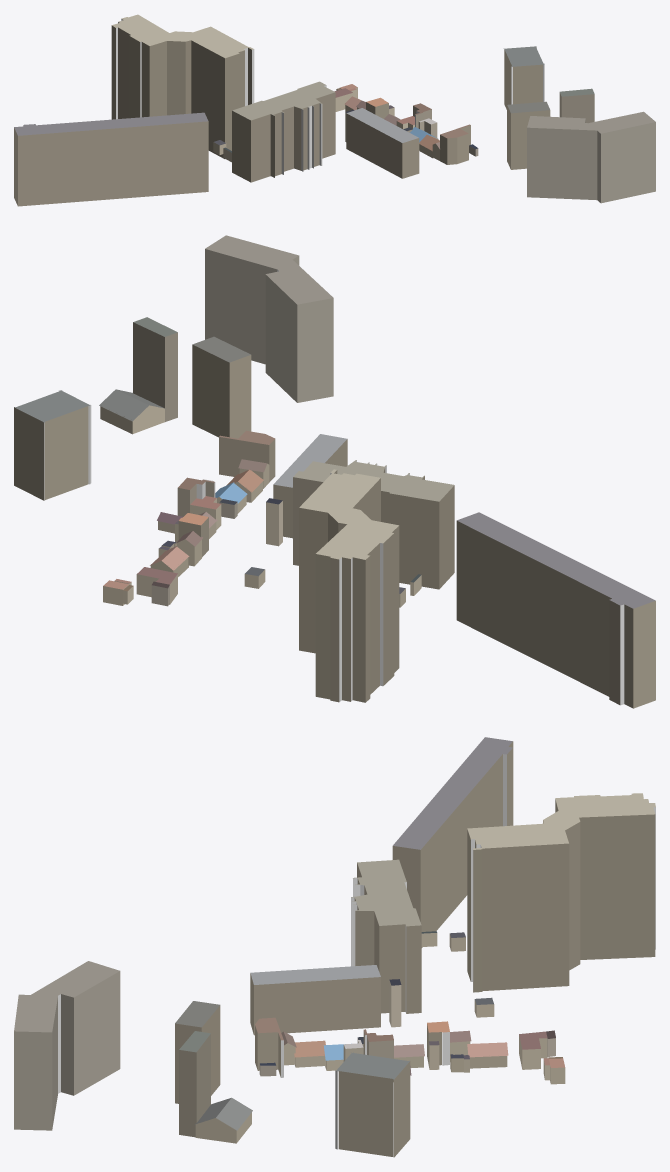
3 renders of one model, top to bottom at view 1: azimuth 30°, elevation 25°; view 2: azimuth 150°, elevation 25°; view 3: azimuth 270°, elevation 25°, orthographic. The views are drawn at different scales.
Parts seen in each view (by area): view 1: tuile; view 2: tuile; view 3: tuile.
Part boxes in pixels (bbox=[...]): tuile: bbox=[14, 14, 655, 206]; tuile: bbox=[14, 235, 655, 708]; tuile: bbox=[14, 737, 655, 1157].
Size of the model in its own units: 267 by 54.55 by 217.
